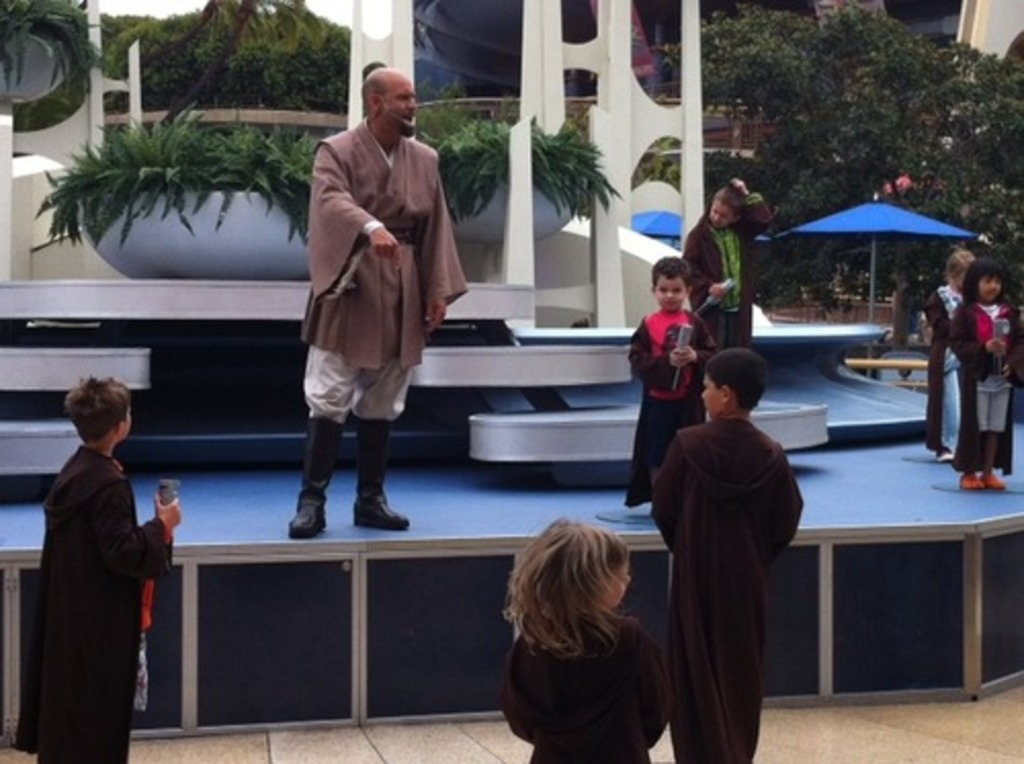Human-face: (598, 553, 633, 614), (381, 72, 420, 123), (655, 274, 688, 315), (707, 197, 731, 229), (981, 274, 999, 303)
